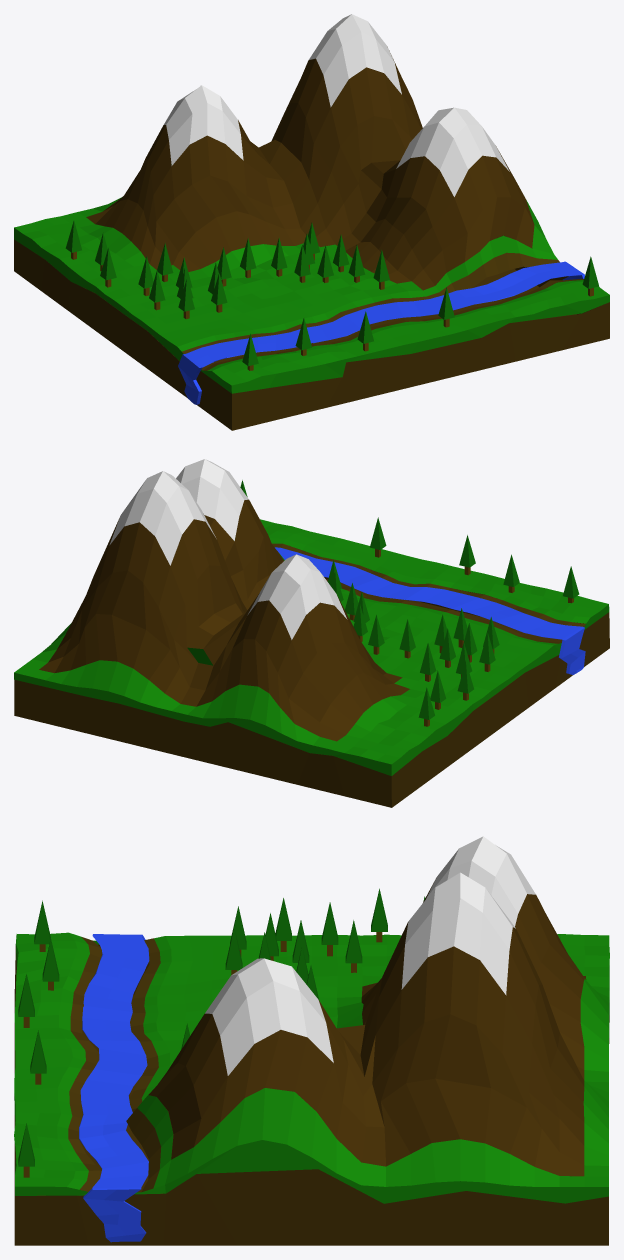
Rendered from 3d-gunung.glb.
3 renders of one model, top to bottom at view 1: azimuth 30°, elevation 25°; view 2: azimuth 150°, elevation 25°; view 3: azimuth 270°, elevation 25°, orthographic. The views are drawn at different scales.
Visible parts, largest first — view 1: Mountain, Grass, Ground, Snow, Trunk, Watter, Mud; view 2: Mountain, Grass, Ground, Snow, Trunk, Watter, Mud; view 3: Mountain, Grass, Ground, Snow, Watter, Trunk, Mud.
Part boxes in pixels (x1,y1,x2,y2): Mountain: (86,50,534,290); Grass: (14,164,609,393); Ground: (14,227,609,430); Snow: (164,14,509,196); Trunk: (65,220,599,370); Watter: (178,261,584,404); Mud: (182,252,583,370); Mountain: (39,499,409,741); Grass: (14,519,609,775); Ground: (14,577,609,807); Snow: (109,459,347,639); Trunk: (240,480,579,726); Watter: (275,547,585,674); Mud: (272,543,585,643); Mountain: (148,881,586,1176); Grass: (14,932,609,1203); Ground: (14,944,609,1245); Snow: (205,836,535,1075); Watter: (79,934,149,1242); Trunk: (18,888,425,1177); Mud: (68,937,160,1192).
Bounding box in the file's own units: 3.68 × 2.07 × 3.61.
